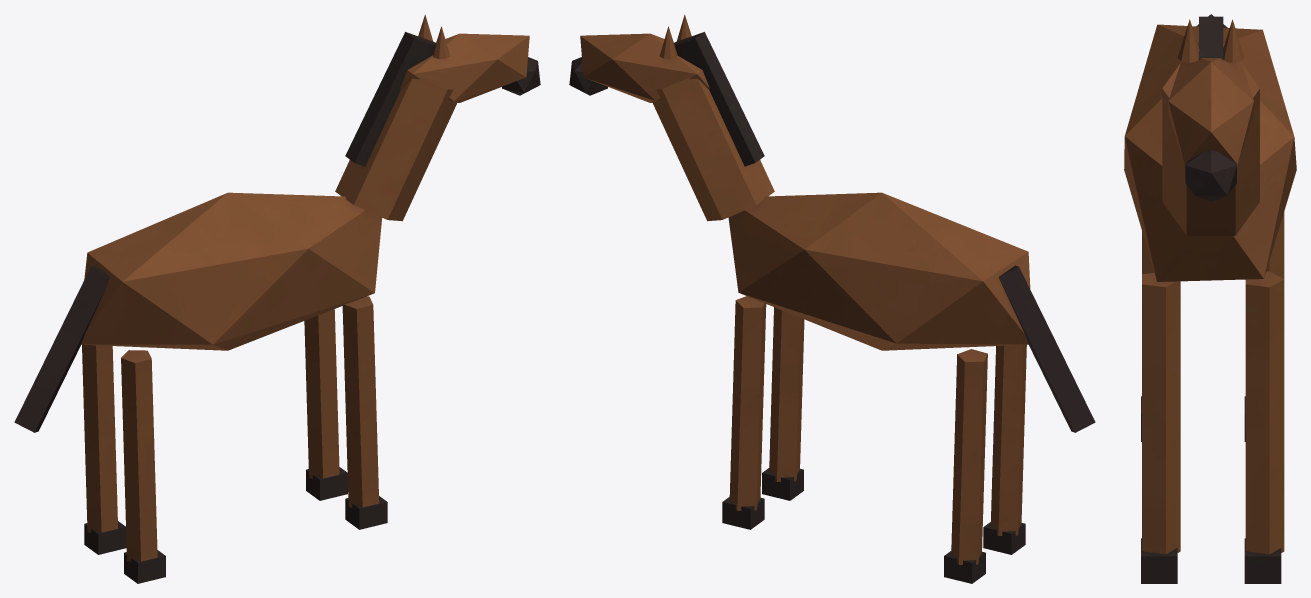
File: hast_tex.glb
The picture shows the model from 3 angles, left to right: view 1: azimuth 30°, elevation 25°; view 2: azimuth 150°, elevation 25°; view 3: azimuth 270°, elevation 25°; orthographic projection. The views are drawn at different scales.
Visible parts, largest first — view 1: hast; view 2: hast; view 3: hast.
Part boxes in pixels (left/top/right/bottom): hast: left=14, top=14, right=540, bottom=583; hast: left=569, top=14, right=1095, bottom=583; hast: left=1124, top=14, right=1296, bottom=583.
Bounding box in the file's own units: 2.6 × 2.21 × 0.5658.
2 materials, 2 textured.
